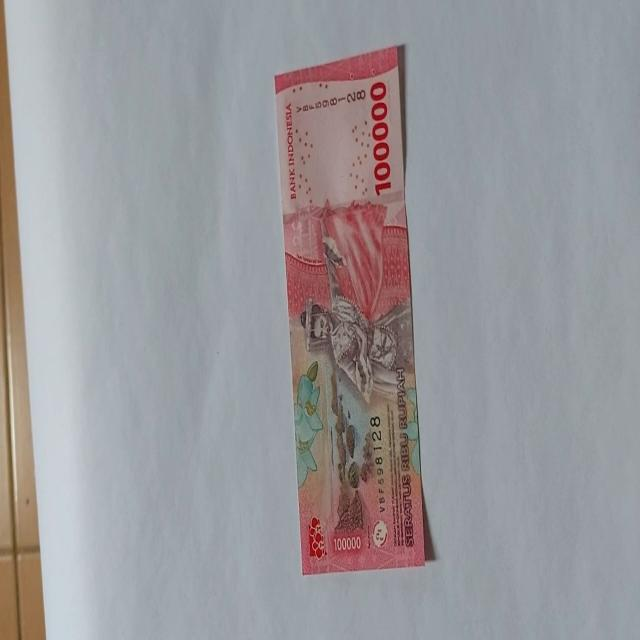seratus ribu rupiah: (272, 44, 426, 576)
